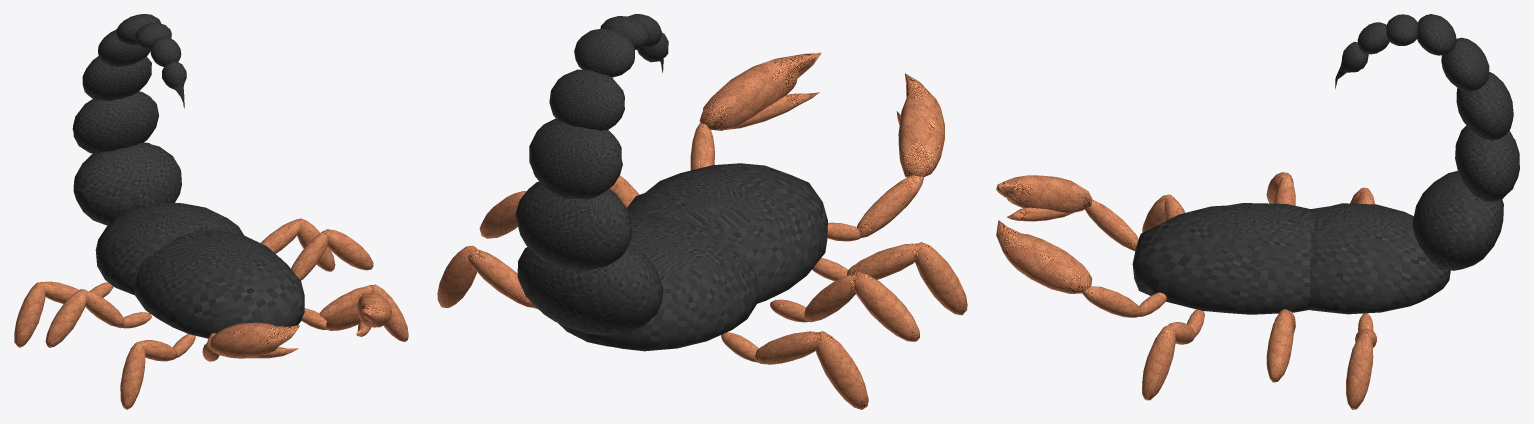
Rendered from scorpion_000009.obj.
3 views of the same model, side by side, from view 1: azimuth 30°, elevation 25°; view 2: azimuth 150°, elevation 25°; view 3: azimuth 270°, elevation 25° (orthographic). The views are drawn at different scales.
Parts seen in each view (by area): view 1: Sphere.010_Sphere.012, Sphere.002_Sphere.004, Sphere.011_Sphere.013, Sphere.003_Sphere.005, Sphere.030_Sphere.000, Sphere.012_Sphere.020, Sphere.004_Sphere.006, Sphere.000_Sphere.019, Sphere.014_Sphere.023, Sphere.016_Sphere.022, Sphere.013_Sphere.017, Sphere.018_Sphere.025 (+8 smaller); view 2: Sphere.010_Sphere.012, Sphere.011_Sphere.013, Sphere.002_Sphere.004, Sphere.030_Sphere.000, Sphere.003_Sphere.005, Sphere.004_Sphere.006, Sphere.005_Sphere.007, Sphere.014_Sphere.023, Sphere.012_Sphere.020, Sphere.018_Sphere.025, Sphere.028_Sphere.046, Sphere.006_Sphere.008 (+11 smaller); view 3: Sphere.010_Sphere.012, Sphere.011_Sphere.013, Sphere.030_Sphere.000, Sphere.002_Sphere.004, Sphere.003_Sphere.005, Sphere.004_Sphere.006, Sphere.028_Sphere.046, Sphere.000_Sphere.019, Sphere.005_Sphere.007, Sphere.012_Sphere.020, Sphere.014_Sphere.023, Sphere.006_Sphere.008 (+6 smaller).
Boxes of the visible parts, bbox=[...] form: Sphere.010_Sphere.012: bbox=[133, 229, 304, 338]; Sphere.002_Sphere.004: bbox=[73, 142, 181, 225]; Sphere.011_Sphere.013: bbox=[95, 203, 243, 295]; Sphere.003_Sphere.005: bbox=[72, 91, 158, 153]; Sphere.030_Sphere.000: bbox=[209, 293, 391, 358]; Sphere.012_Sphere.020: bbox=[45, 229, 373, 347]; Sphere.004_Sphere.006: bbox=[82, 56, 151, 100]; Sphere.000_Sphere.019: bbox=[120, 284, 408, 409]; Sphere.014_Sphere.023: bbox=[14, 218, 335, 347]; Sphere.016_Sphere.022: bbox=[85, 230, 328, 328]; Sphere.013_Sphere.017: bbox=[136, 285, 372, 361]; Sphere.018_Sphere.025: bbox=[40, 219, 300, 303]; Sphere.010_Sphere.012: bbox=[627, 163, 827, 303]; Sphere.011_Sphere.013: bbox=[558, 214, 759, 351]; Sphere.002_Sphere.004: bbox=[517, 244, 663, 335]; Sphere.030_Sphere.000: bbox=[699, 52, 944, 177]; Sphere.003_Sphere.005: bbox=[515, 181, 632, 270]; Sphere.004_Sphere.006: bbox=[529, 118, 622, 199]; Sphere.005_Sphere.007: bbox=[549, 69, 624, 130]; Sphere.014_Sphere.023: bbox=[437, 245, 868, 409]; Sphere.012_Sphere.020: bbox=[479, 191, 919, 341]; Sphere.018_Sphere.025: bbox=[468, 248, 820, 364]; Sphere.028_Sphere.046: bbox=[690, 123, 923, 237]; Sphere.006_Sphere.008: bbox=[574, 28, 634, 77]; Sphere.010_Sphere.012: bbox=[1132, 203, 1314, 314]; Sphere.011_Sphere.013: bbox=[1308, 203, 1450, 314]; Sphere.030_Sphere.000: bbox=[996, 175, 1092, 293]; Sphere.002_Sphere.004: bbox=[1412, 171, 1503, 270]; Sphere.003_Sphere.005: bbox=[1455, 125, 1519, 202]; Sphere.004_Sphere.006: bbox=[1456, 72, 1513, 140]; Sphere.028_Sphere.046: bbox=[1082, 199, 1141, 317]; Sphere.000_Sphere.019: bbox=[1142, 194, 1175, 400]; Sphere.005_Sphere.007: bbox=[1441, 37, 1489, 91]; Sphere.012_Sphere.020: bbox=[1266, 172, 1293, 382]; Sphere.014_Sphere.023: bbox=[1346, 187, 1373, 409]; Sphere.006_Sphere.008: bbox=[1417, 14, 1456, 55].
Size of the model in its own units: 0.9669 by 0.7614 by 1.18.
Materials: 2 (2 with a texture image).
